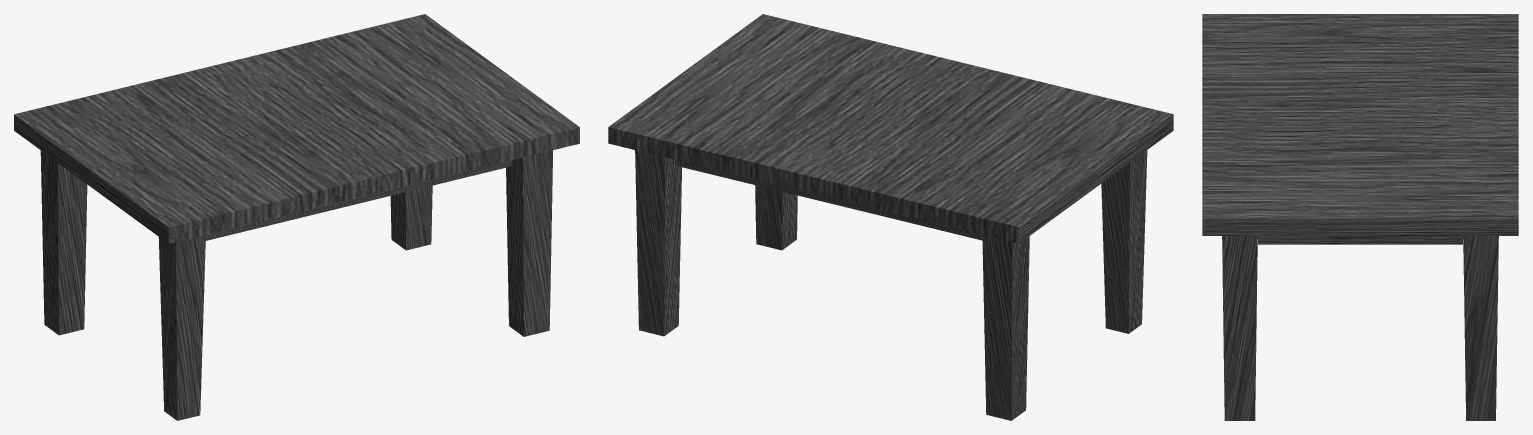
The model's file is Mesa.fbx.
3 views of the same model, side by side, from view 1: azimuth 30°, elevation 25°; view 2: azimuth 150°, elevation 25°; view 3: azimuth 270°, elevation 25° (orthographic). The views are drawn at different scales.
Parts seen in each view (by area): view 1: Mesa; view 2: Mesa; view 3: Mesa.
Boxes of the visible parts, <box> form: Mesa: <box>14,14,579,420</box>; Mesa: <box>608,14,1173,420</box>; Mesa: <box>1202,14,1518,420</box>.
Size of the model in its own units: 208 by 99.74 by 135.
Materials: 1 (1 with a texture image).
